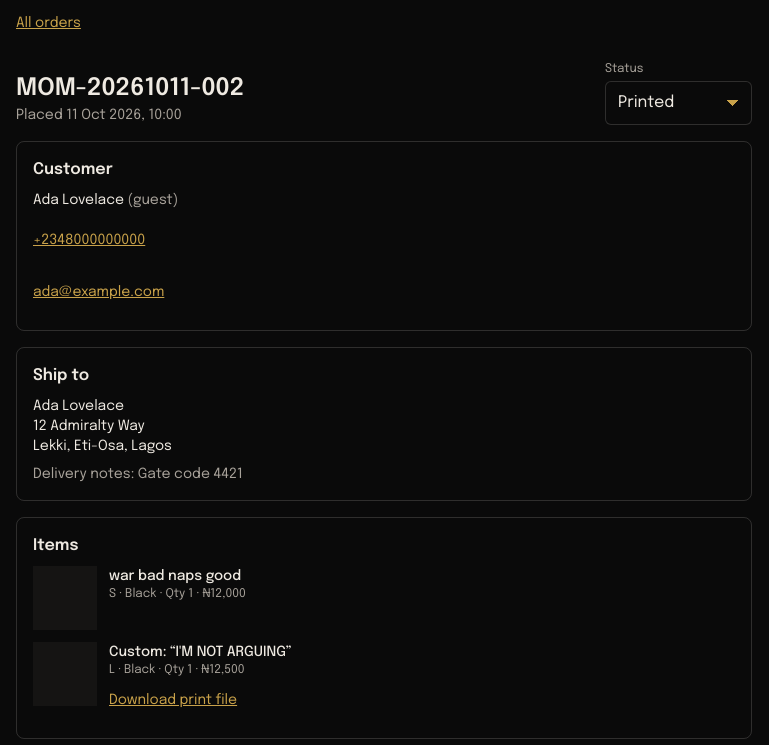
AdminOrderDetailView › changes the status from the detail page
The image size is (769, 745).
Select "Out for Delivery" in the dropdown labelled "Status" at x=678, y=103, box [605,81,752,125]
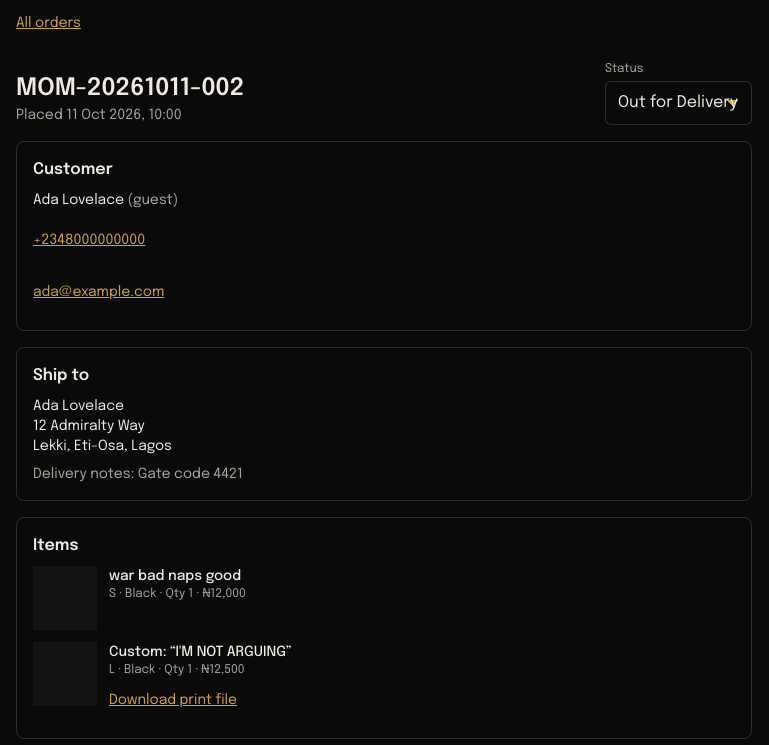
Now the dropdown labelled "Status" shows "Out for Delivery", box [605,81,752,125]
